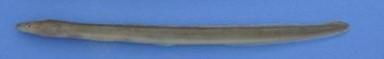Freshwater Eel: (17, 16, 353, 50)
